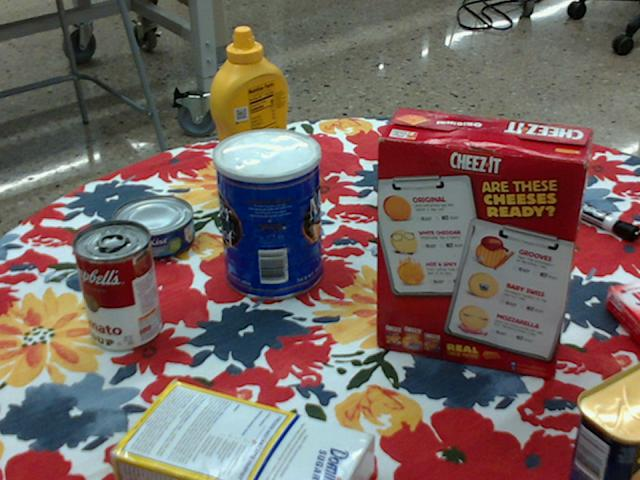cracker_box: (374, 109, 593, 382)
gelatin_box: (604, 281, 639, 345)
large_marker: (543, 186, 639, 239)
master_chef_can: (213, 127, 322, 300)
mug: (378, 133, 462, 215)
mustard_bottle: (211, 28, 294, 199)
potted_meat_can: (570, 360, 639, 479)
sugar_box: (108, 382, 375, 479)
tomato_soup_can: (73, 219, 161, 351)
tuna_fish_can: (114, 194, 196, 259)
